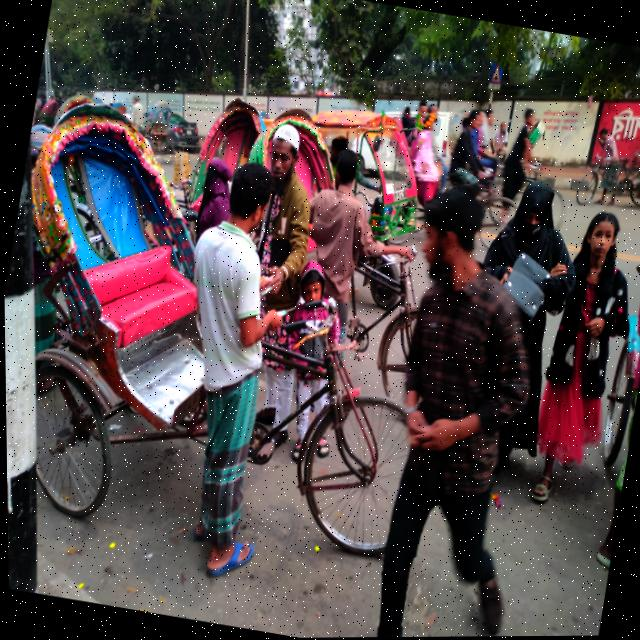rikshaw: (1, 75, 493, 640)
